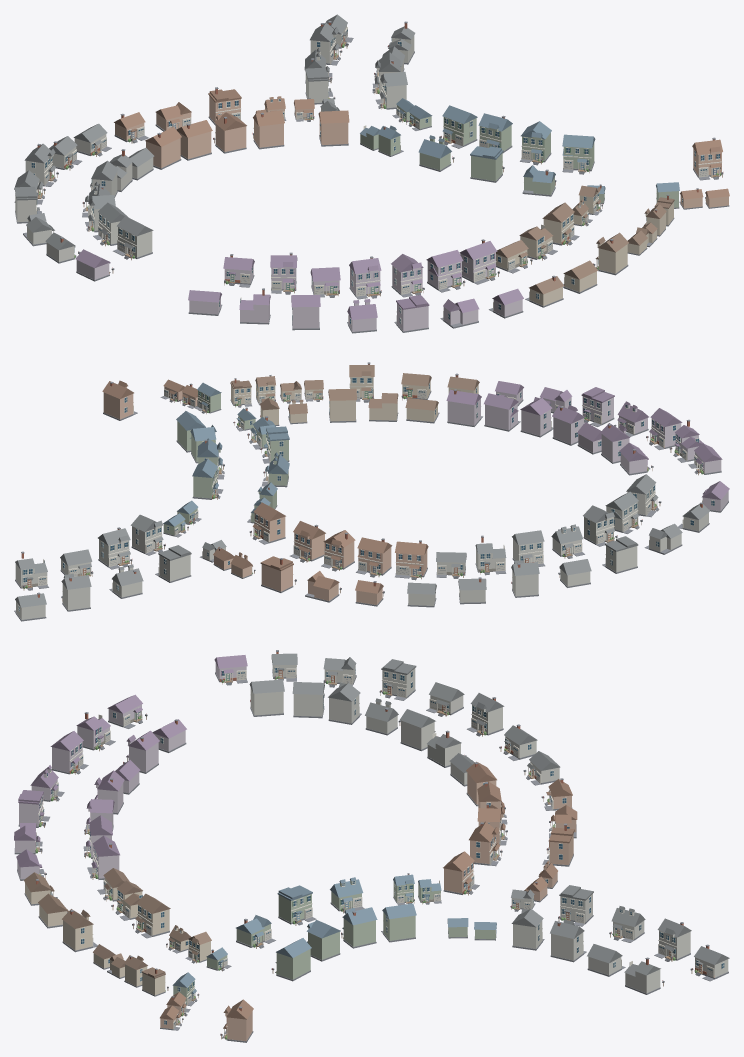
The model's file is meadow-run.glb.
The picture shows the model from 3 angles, top to bottom: view 1: azimuth 30°, elevation 25°; view 2: azimuth 150°, elevation 25°; view 3: azimuth 270°, elevation 25°; orthographic projection. The views are drawn at different scales.
Visible parts, largest first — view 1: suburban_89_double_garage.003, suburban_74_double_garage.002, suburban_87_side_garage_two.003, suburban_35_garage_colonial.004, suburban_42_side_garage_two.004, suburban_83_suburban_farmhouse.003, suburban_85_front_gable.003, suburban_53_suburban_farmhouse.005, suburban_57_side_garage_two.005, suburban_55_front_gable.005, suburban_49_center_colonial.005, suburban_04_center_colonial.003 (+43 smaller); view 2: suburban_57_side_garage_two.005, suburban_59_double_garage.005, suburban_89_double_garage.003, suburban_68_suburban_farmhouse.003, suburban_50_garage_colonial.005, suburban_53_suburban_farmhouse.005, suburban_87_side_garage_two.003, suburban_70_front_gable.003, suburban_49_center_colonial.005, suburban_55_front_gable.005, suburban_84_modern_suburban.003, suburban_70_front_gable.004 (+51 smaller); view 3: suburban_38_suburban_farmhouse.004, suburban_68_suburban_farmhouse.003, suburban_39_modern_suburban.004, suburban_74_double_garage.002, suburban_05_garage_colonial.003, suburban_69_modern_suburban.004, suburban_42_side_garage_two.004, suburban_64_center_colonial.004, suburban_35_garage_colonial.004, suburban_64_center_colonial.005, suburban_80_garage_colonial.003, suburban_69_modern_suburban.003 (+41 smaller).
Part boxes in pixels (x1,y1,x2,y2): suburban_89_double_garage.003: (459,239,499,284); suburban_74_double_garage.002: (113,216,153,260); suburban_87_side_garage_two.003: (426,250,465,292); suburban_35_garage_colonial.004: (439,105,477,148); suburban_42_side_garage_two.004: (562,134,595,174); suburban_83_suburban_farmhouse.003: (349,256,381,299); suburban_85_front_gable.003: (391,254,424,297); suburban_53_suburban_farmhouse.005: (252,109,284,149); suburban_57_side_garage_two.005: (176,120,212,160); suburban_55_front_gable.005: (213,112,246,153); suburban_49_center_colonial.005: (692,137,723,180); suburban_04_center_colonial.003: (593,232,628,275); suburban_57_side_garage_two.005: (356,537,392,577); suburban_59_double_garage.005: (395,540,428,580); suburban_89_double_garage.003: (446,389,482,426); suburban_68_suburban_farmhouse.003: (98,527,132,569); suburban_50_garage_colonial.005: (249,502,285,544); suburban_53_suburban_farmhouse.005: (290,521,325,562); suburban_87_side_garage_two.003: (484,393,520,431); suburban_70_front_gable.003: (130,514,165,555); suburban_49_center_colonial.005: (102,380,137,420); suburban_55_front_gable.005: (321,530,355,571); suburban_84_modern_suburban.003: (581,387,614,426); suburban_70_front_gable.004: (583,505,617,546); suburban_38_suburban_farmhouse.004: (341,907,377,948); suburban_68_suburban_farmhouse.003: (550,919,586,962); suburban_39_modern_suburban.004: (277,885,316,925); suburban_74_double_garage.002: (249,679,284,716); suburban_05_garage_colonial.003: (132,893,170,938); suburban_69_modern_suburban.004: (379,659,416,700); suburban_42_side_garage_two.004: (271,938,311,981); suburban_64_center_colonial.004: (654,918,691,961); suburban_35_garage_colonial.004: (381,903,416,942); suburban_64_center_colonial.005: (467,693,504,736); suburban_80_garage_colonial.003: (50,731,88,774); suburban_69_modern_suburban.003: (558,885,593,926).
Size of the model in its own units: 170 by 20.98 by 161.
